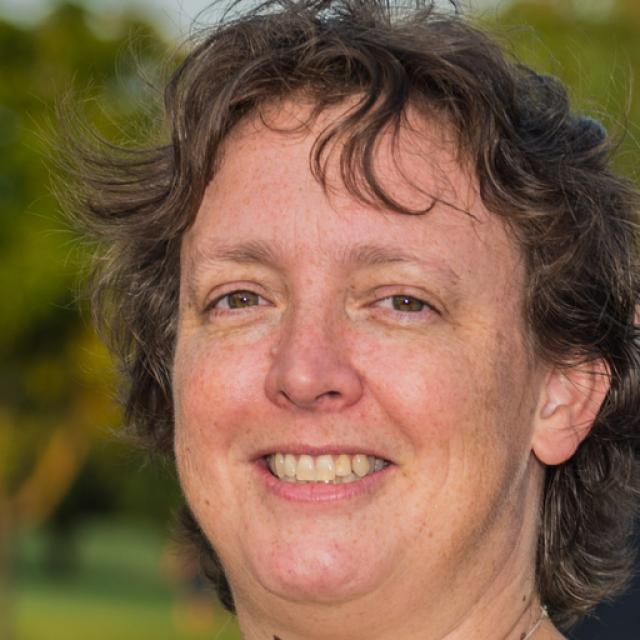Pigmentation: (479, 326, 525, 420)
